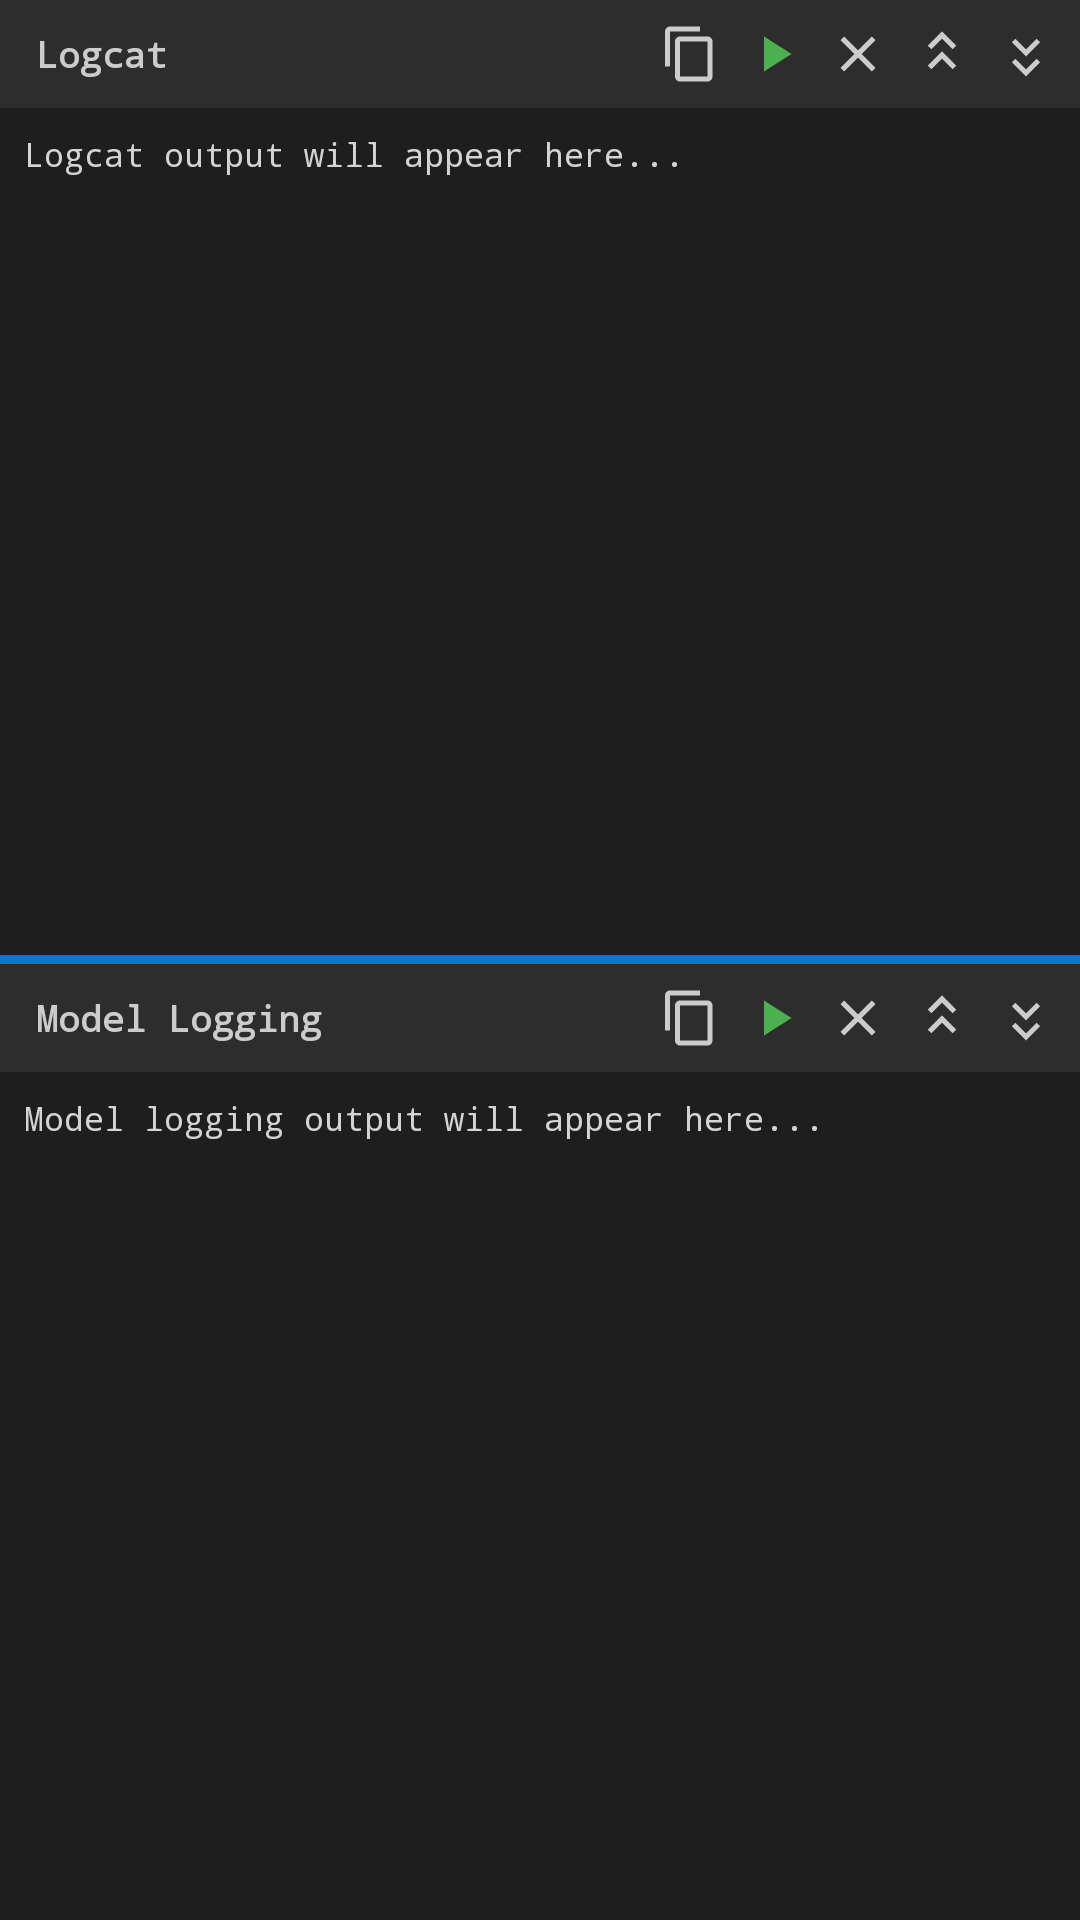

Named icons in this screenshot (1080 × 1920) and their centers, point (x, y):
Clear Logs: point (858, 54)
Clear Model Log: point (858, 1018)
Copy Model Log: point (689, 1018)
Scroll to End: point (1026, 58), point (1026, 1022)
Scroll to Top: point (942, 50), point (942, 1014)
Start/Pause Model Log: point (777, 1018)
